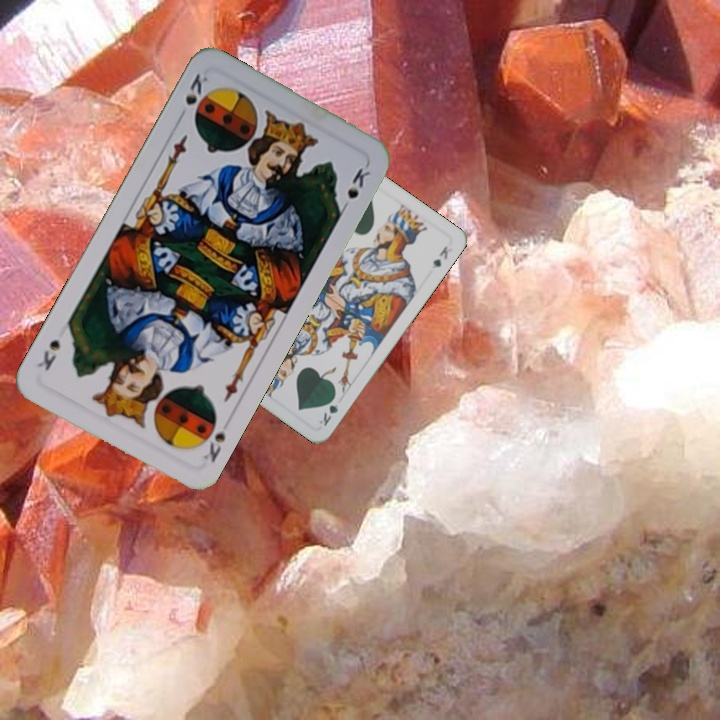GK: (315, 391, 341, 429)
SK: (181, 69, 211, 108), (199, 426, 229, 465)
